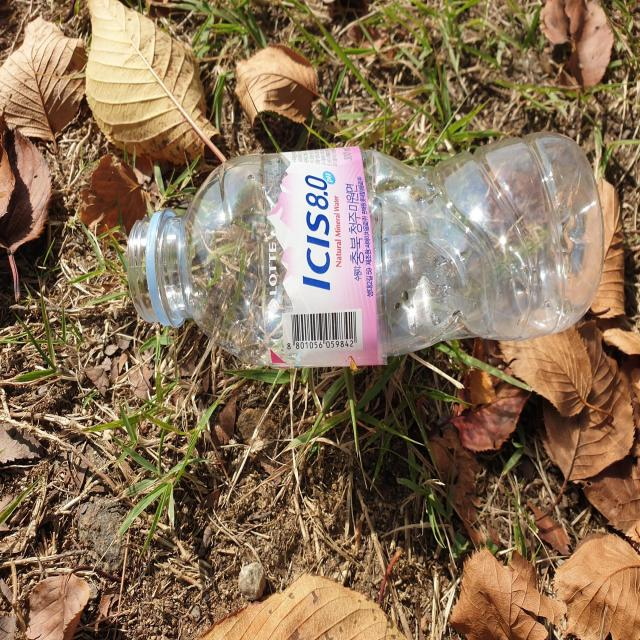plastic: (126, 132, 605, 366)
